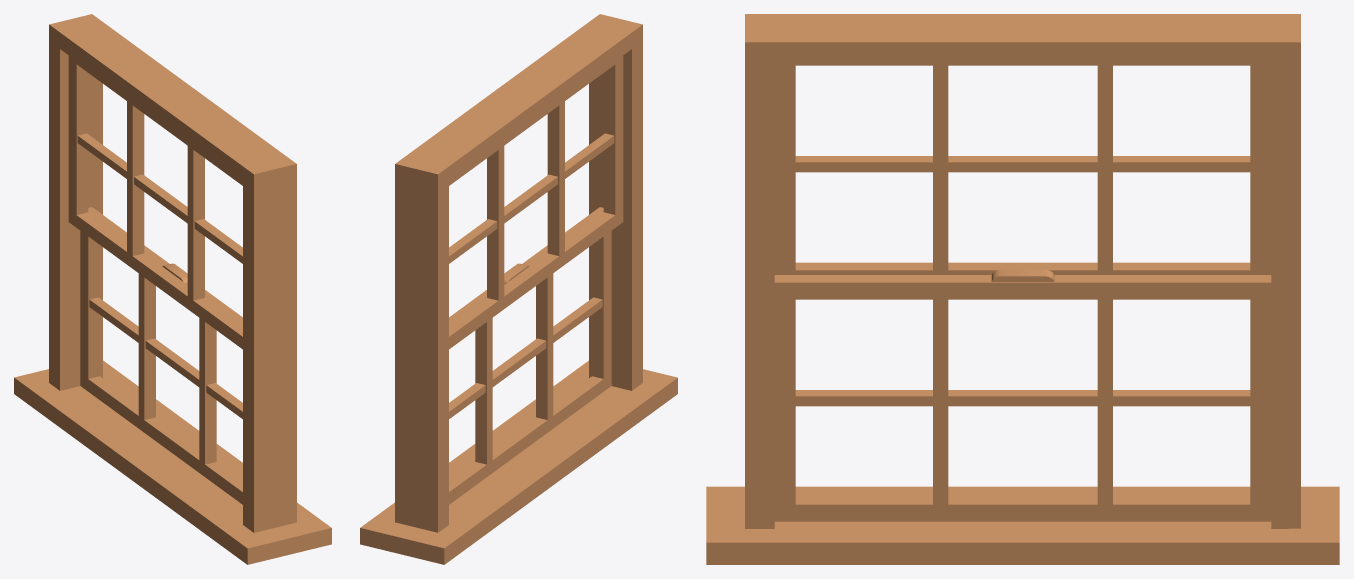
File: window.fbx
The picture shows the model from 3 angles, left to right: view 1: azimuth 30°, elevation 25°; view 2: azimuth 150°, elevation 25°; view 3: azimuth 270°, elevation 25°; orthographic projection. The views are drawn at different scales.
Parts seen in each view (by area): view 1: window frame, upper window, lower window; view 2: window frame, upper window, lower window; view 3: window frame, lower window, upper window.
Boxes of the visible parts, x1,y1,x2,y2 form: window frame: (14,14,331,564); upper window: (68,55,242,349); lower window: (80,207,242,504); window frame: (360,14,677,564); upper window: (449,55,623,349); lower window: (449,207,611,504); window frame: (706,14,1339,564); lower window: (774,269,1271,521); upper window: (774,65,1271,274).
Size of the model in its own units: 0.2133 by 0.907 by 1.02.
